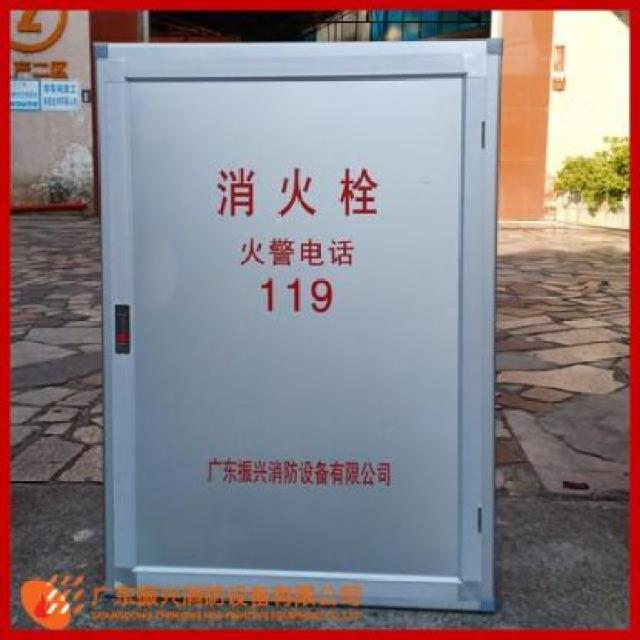firehydrant: (91, 34, 508, 619)
